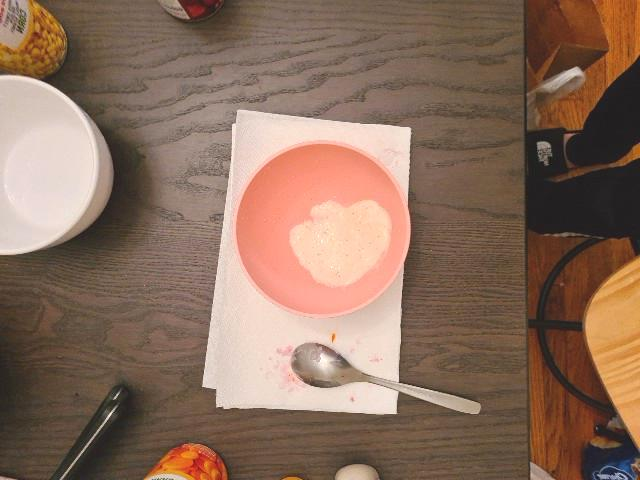kichen waste: (289, 199, 392, 288)
